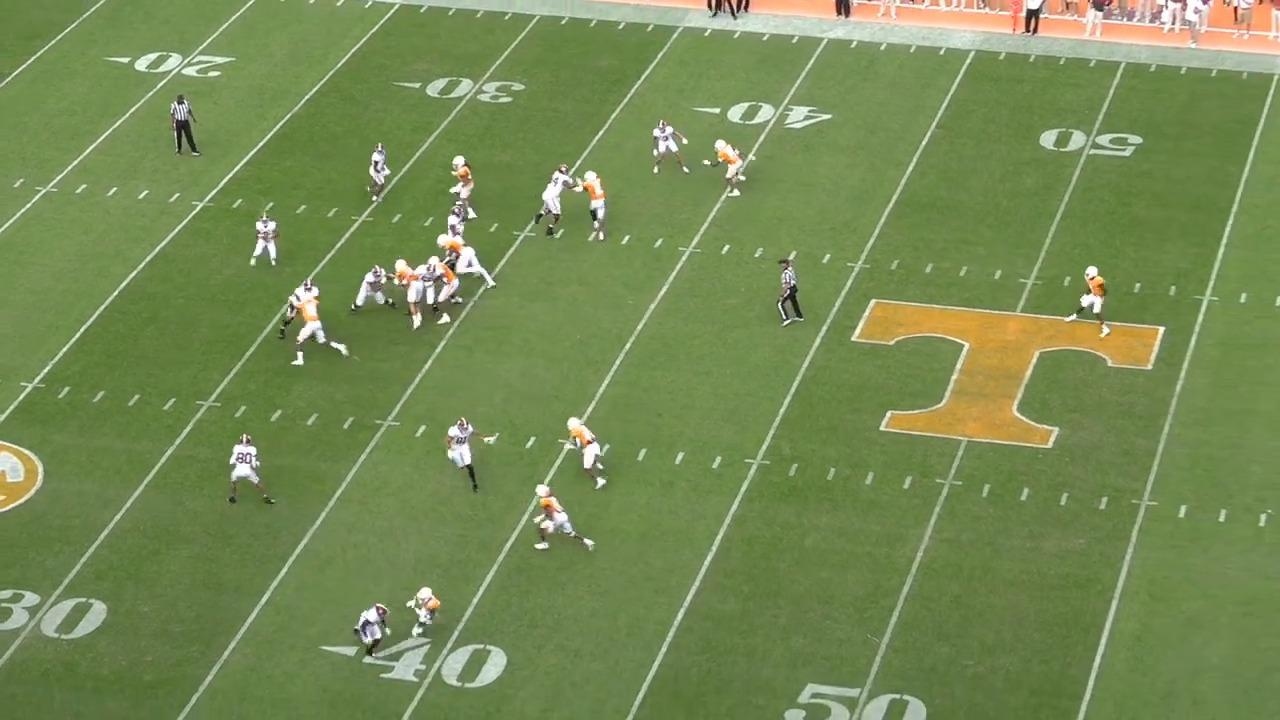defense: (532, 480, 603, 554), (285, 291, 349, 370), (563, 416, 615, 495), (436, 231, 497, 290), (1060, 263, 1106, 338), (388, 257, 433, 333), (573, 169, 608, 243), (708, 135, 747, 199), (447, 151, 481, 221), (401, 583, 441, 641), (430, 256, 463, 324)
oline: (537, 163, 585, 239), (275, 281, 320, 344), (349, 263, 397, 314), (437, 200, 473, 246), (413, 263, 440, 318)
qb: (250, 212, 286, 272)
ref: (774, 256, 804, 332), (173, 92, 204, 161)
skill: (224, 429, 277, 508), (448, 412, 497, 493), (354, 599, 395, 664), (646, 121, 687, 181), (365, 142, 395, 209)
